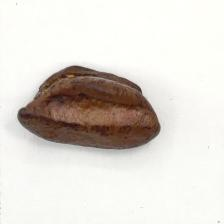NG: (14, 66, 161, 135)
